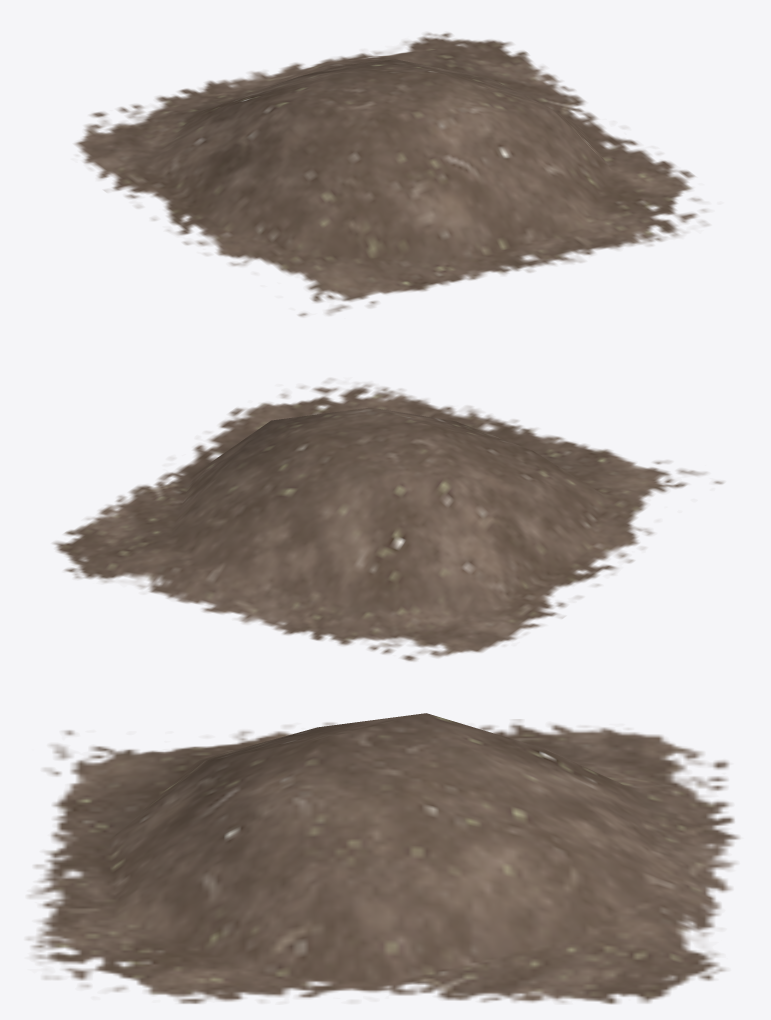
File: soil_pile_wet.gltf
3 views of the same model, one above another, from view 1: azimuth 30°, elevation 25°; view 2: azimuth 150°, elevation 25°; view 3: azimuth 270°, elevation 25° (orthographic). The views are drawn at different scales.
Visible parts, largest first — view 1: soil_pile_wet; view 2: soil_pile_wet; view 3: soil_pile_wet.
Part boxes in pixels (<box>): soil_pile_wet: <box>74,32,708,316</box>; soil_pile_wet: <box>53,378,723,661</box>; soil_pile_wet: <box>27,713,739,1004</box>.
Size of what is drawn, in the model's own units: 0.8529 by 0.1476 by 0.9308.
Materials: 1 (1 with a texture image).
